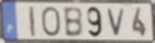4: (131, 7, 148, 39)
9: (86, 5, 104, 38)
B: (62, 6, 85, 39)
I: (28, 5, 37, 38)
O: (40, 5, 62, 38)
V: (106, 8, 127, 38)
